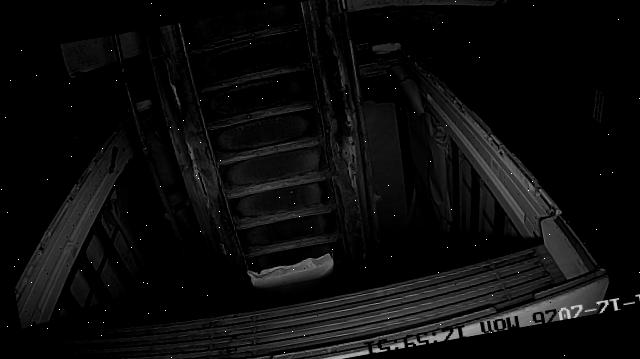bag: (246, 251, 340, 310)
